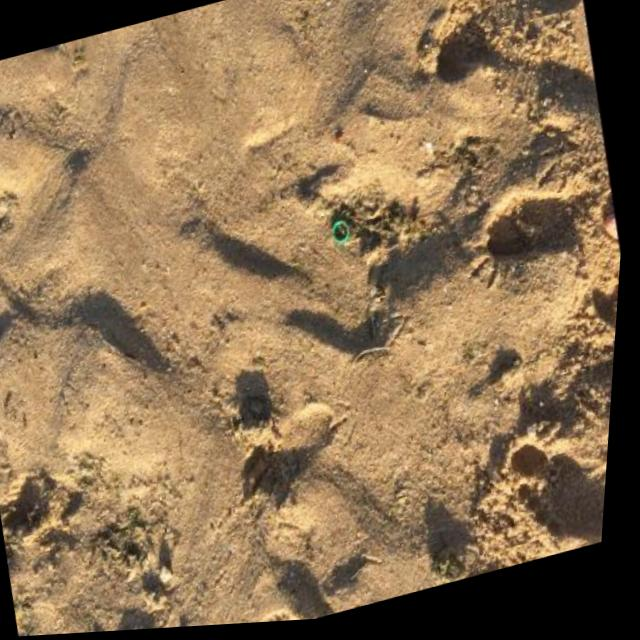plastic: (330, 217, 353, 244)
